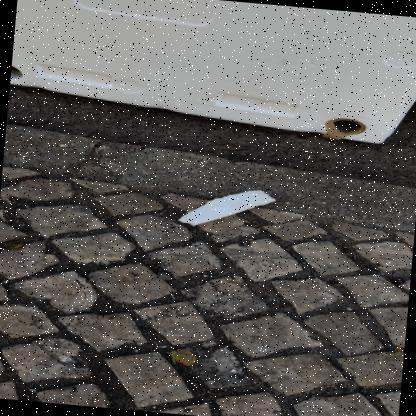Corrugated carton: (322, 119, 366, 140)
Styrofoam piece: (10, 0, 416, 144), (178, 190, 275, 226)
